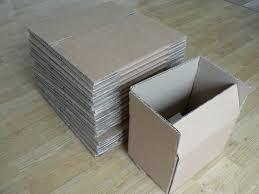Cardboard: (16, 11, 259, 187)
